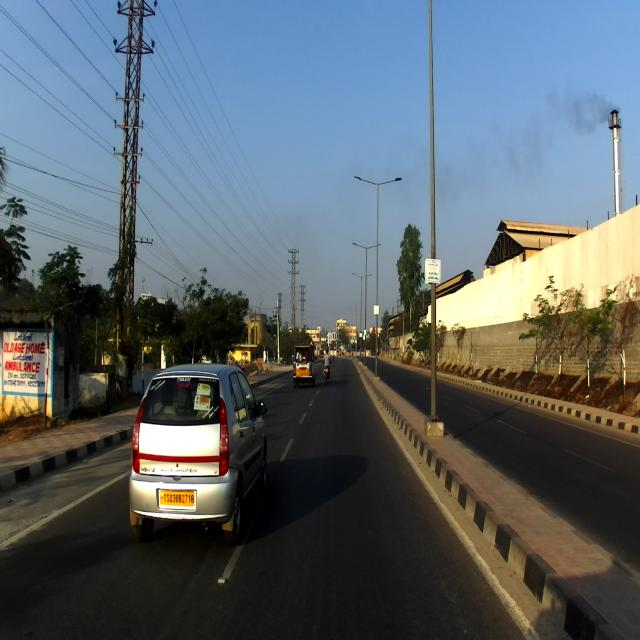car ahead at: (127, 364, 272, 535)
